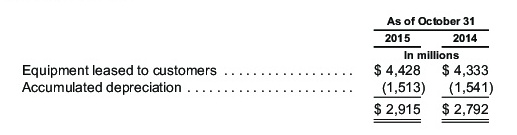table: (0, 0, 517, 135)
